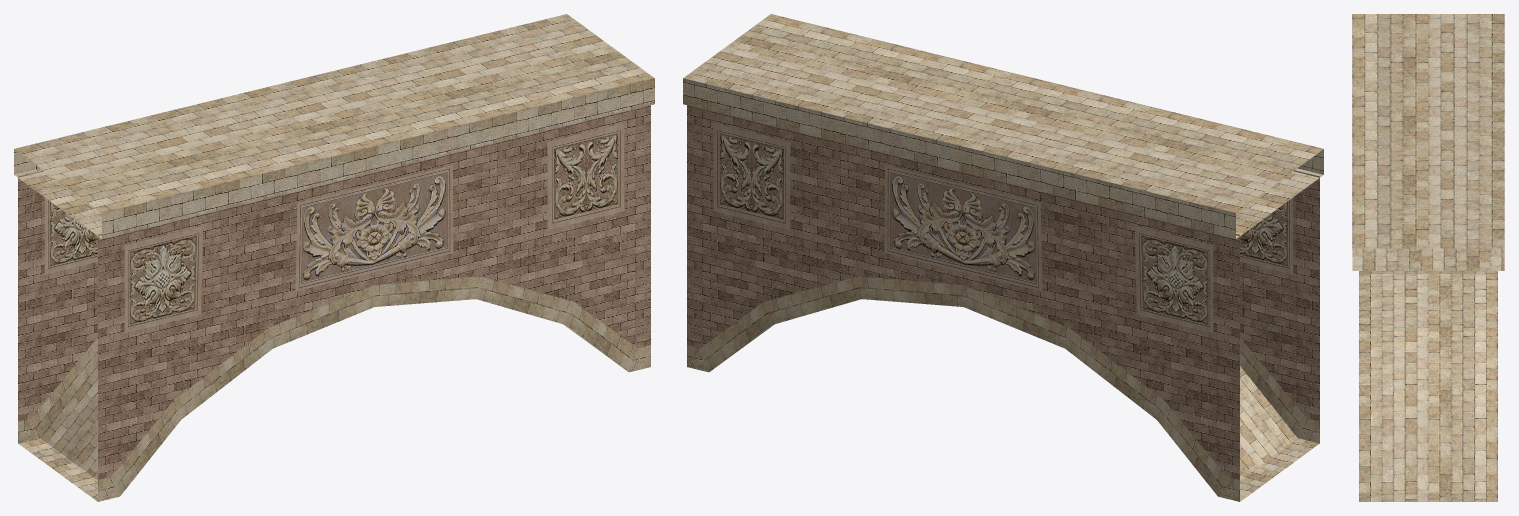
Rendered from thm_nboo_imprv_archway_narrow_s01_l1.fbx.
The picture shows the model from 3 angles, left to right: view 1: azimuth 30°, elevation 25°; view 2: azimuth 150°, elevation 25°; view 3: azimuth 270°, elevation 25°; orthographic projection. The views are drawn at different scales.
Parts seen in each view (by area): view 1: mesh_node; view 2: mesh_node; view 3: mesh_node.
Boxes of the visible parts, <box> form: mesh_node: <box>14,14,654,501</box>; mesh_node: <box>683,14,1323,501</box>; mesh_node: <box>1352,14,1504,501</box>.
Size of the model in its own units: 4 by 2.02 by 1.1.
3 materials, 3 textured.
